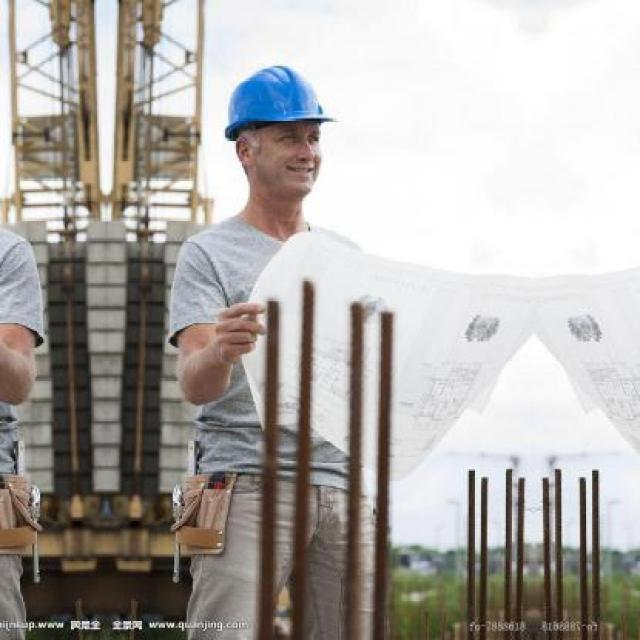helmet: (206, 36, 348, 225)
